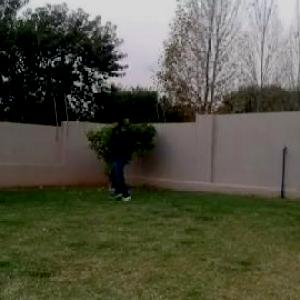follow: (109, 113, 132, 208)
